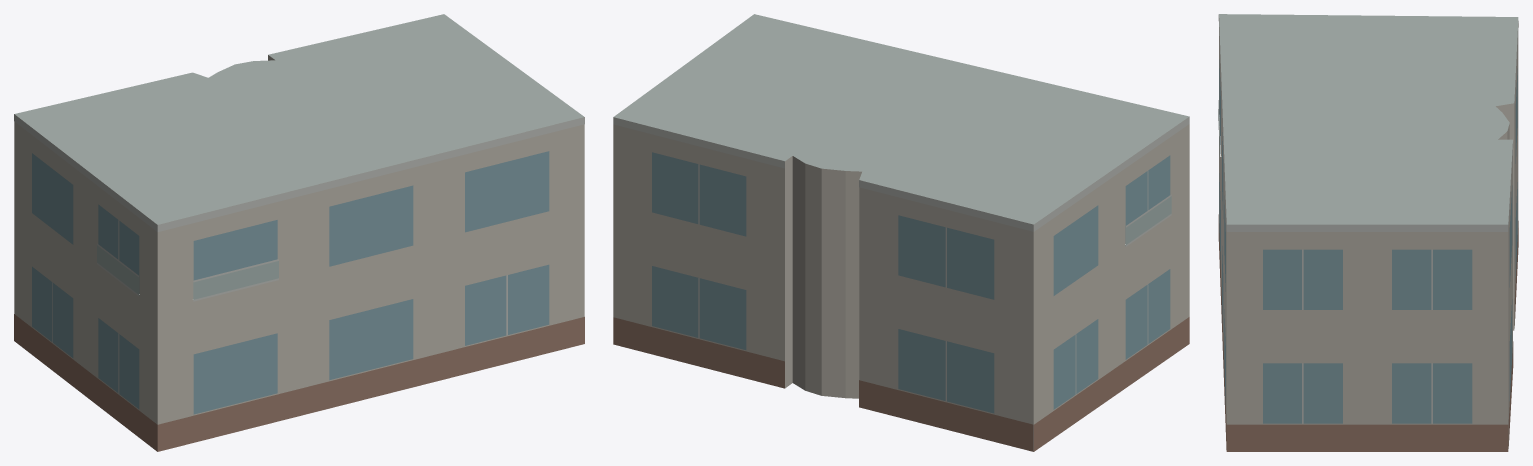
The model's file is survey-upis-32637650.glb.
The picture shows the model from 3 angles, left to right: view 1: azimuth 30°, elevation 25°; view 2: azimuth 150°, elevation 25°; view 3: azimuth 270°, elevation 25°; orthographic projection.
Parts seen in each view (by area): view 1: survey-upis-32637650.tmp; view 2: survey-upis-32637650.tmp; view 3: survey-upis-32637650.tmp.
Boxes of the visible parts, left/top/right/bottom form: survey-upis-32637650.tmp: left=14, top=14, right=584, bottom=451; survey-upis-32637650.tmp: left=613, top=14, right=1189, bottom=451; survey-upis-32637650.tmp: left=1218, top=14, right=1518, bottom=451.
Size of the model in its own units: 15.13 by 7.6 by 9.1.
